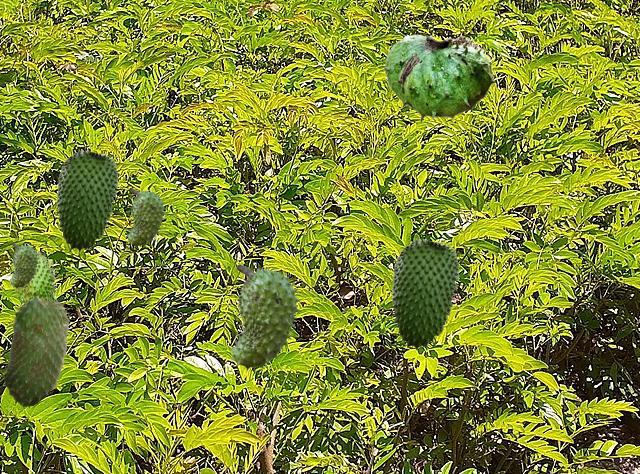guyabano: (383, 34, 494, 122), (229, 264, 302, 371), (391, 238, 458, 349), (3, 296, 69, 407), (56, 149, 117, 251), (11, 252, 57, 304), (126, 188, 166, 247), (9, 243, 39, 288)
